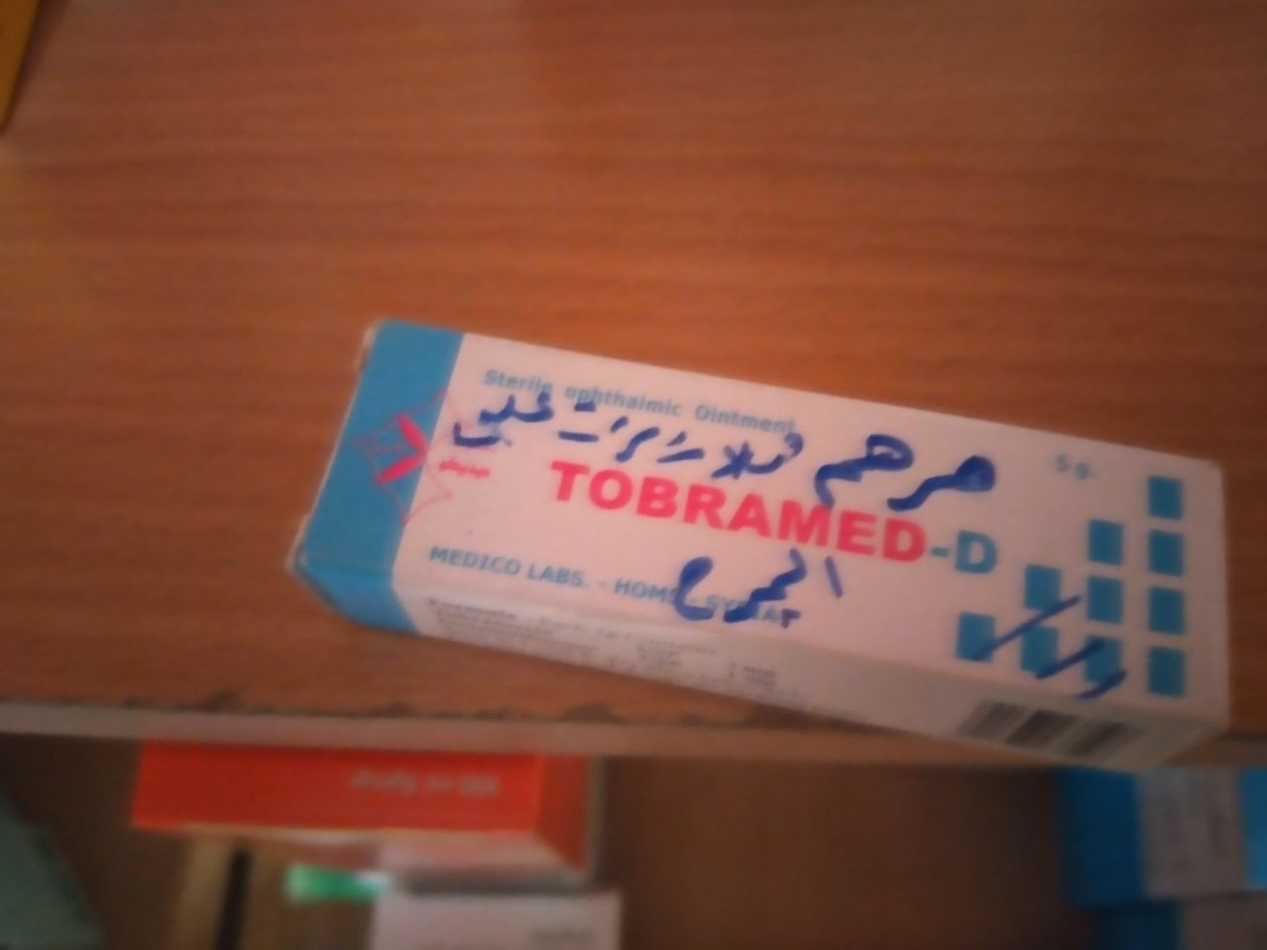Medicine: (290, 302, 1232, 769)
